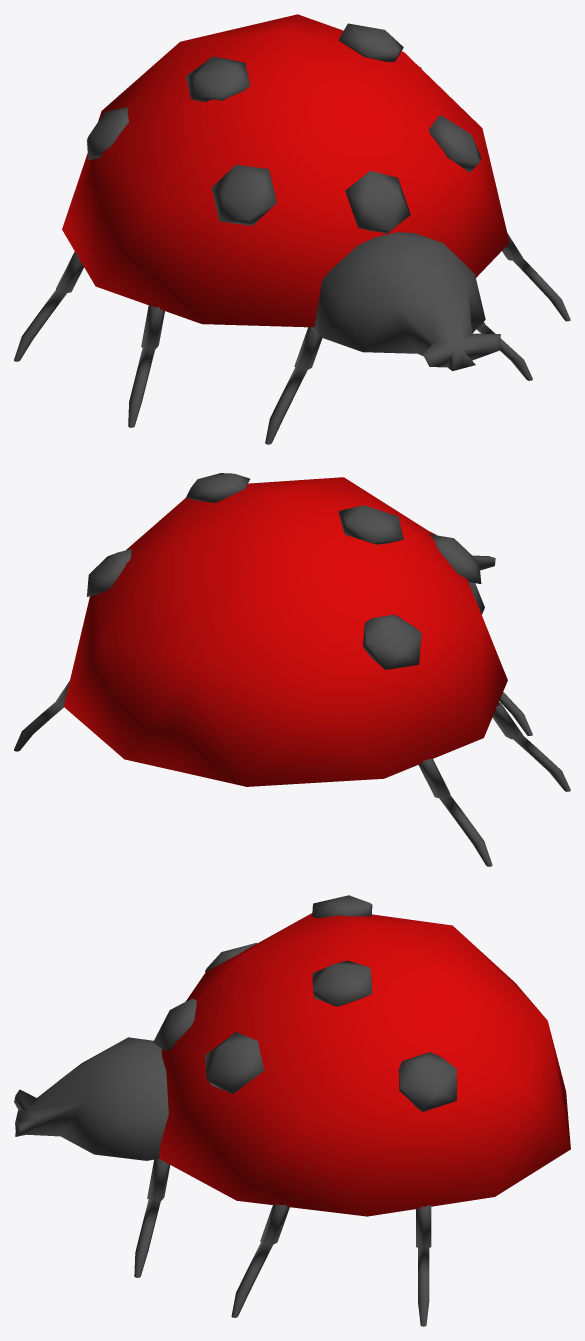
The model's file is ladybug.fbx.
3 views of the same model, one above another, from view 1: azimuth 30°, elevation 25°; view 2: azimuth 150°, elevation 25°; view 3: azimuth 270°, elevation 25° (orthographic). The views are drawn at different scales.
Parts seen in each view (by area): view 1: Symmetry; view 2: Symmetry; view 3: Symmetry.
Boxes of the visible parts, x1,y1,x2,y2 form: Symmetry: (14,14,570,444); Symmetry: (14,473,570,866); Symmetry: (14,895,570,1326).
Bounding box in the file's own units: 246 × 145 × 253.
